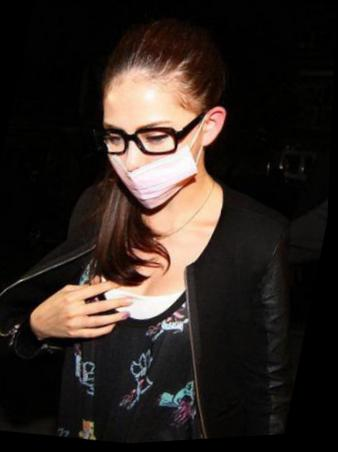WRONG: (93, 89, 206, 223)
